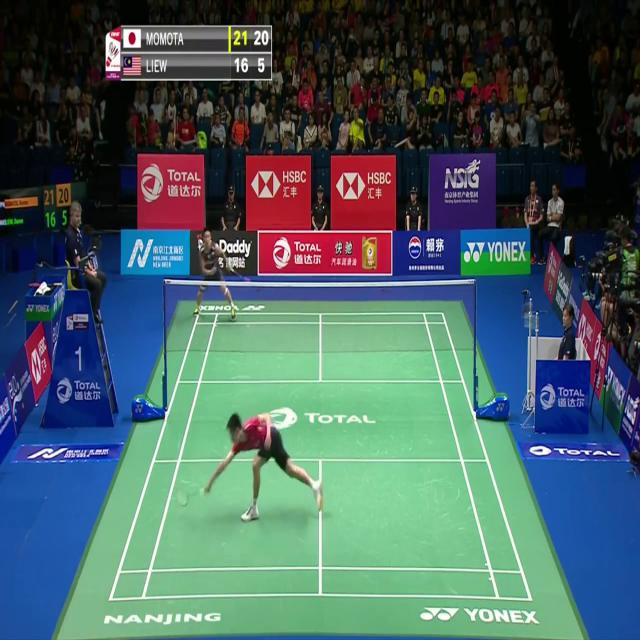Shuttlecock: (176, 440, 183, 451)
